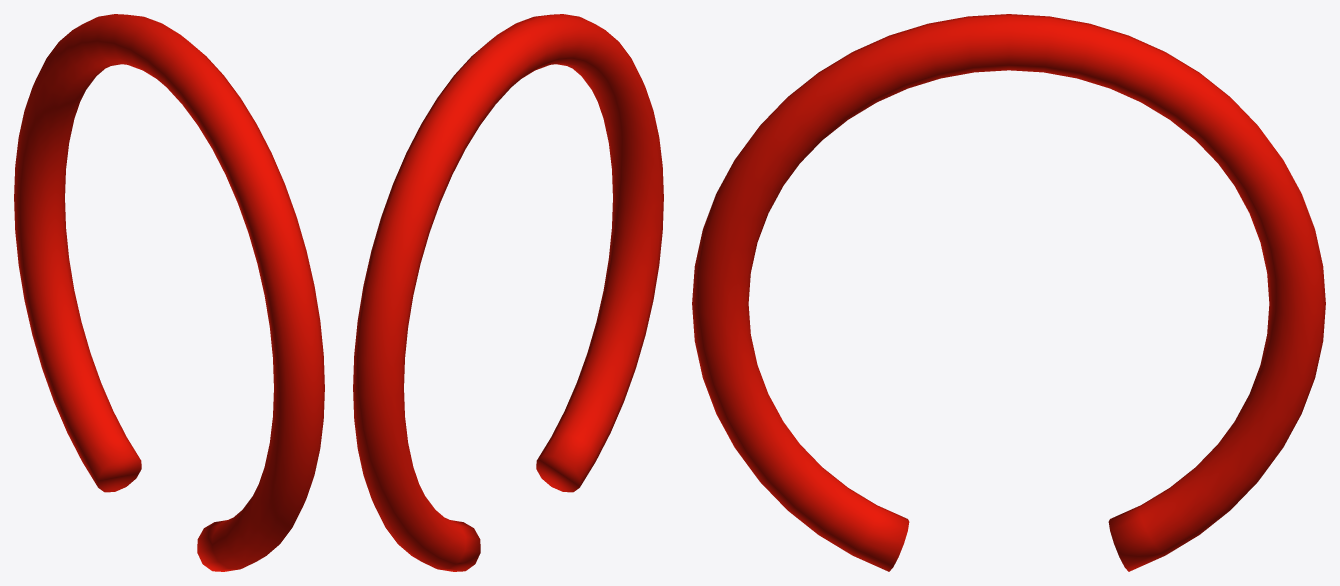
3 views of the same model, side by side, from view 1: azimuth 30°, elevation 25°; view 2: azimuth 150°, elevation 25°; view 3: azimuth 270°, elevation 25° (orthographic). The views are drawn at different scales.
Visible parts, largest first — view 1: Torus; view 2: Torus; view 3: Torus.
Part boxes in pixels (<box>): Torus: <box>14,14,324,571</box>; Torus: <box>353,14,663,571</box>; Torus: <box>692,14,1325,571</box>.
Bounding box in the file's own units: 80 × 862 × 896.
